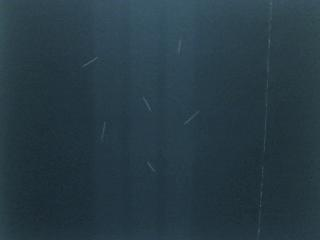crack: (255, 0, 277, 240)
scratch: (134, 88, 163, 120), (179, 100, 203, 137), (167, 31, 192, 62), (72, 52, 108, 72), (139, 152, 163, 181), (92, 117, 114, 146)
